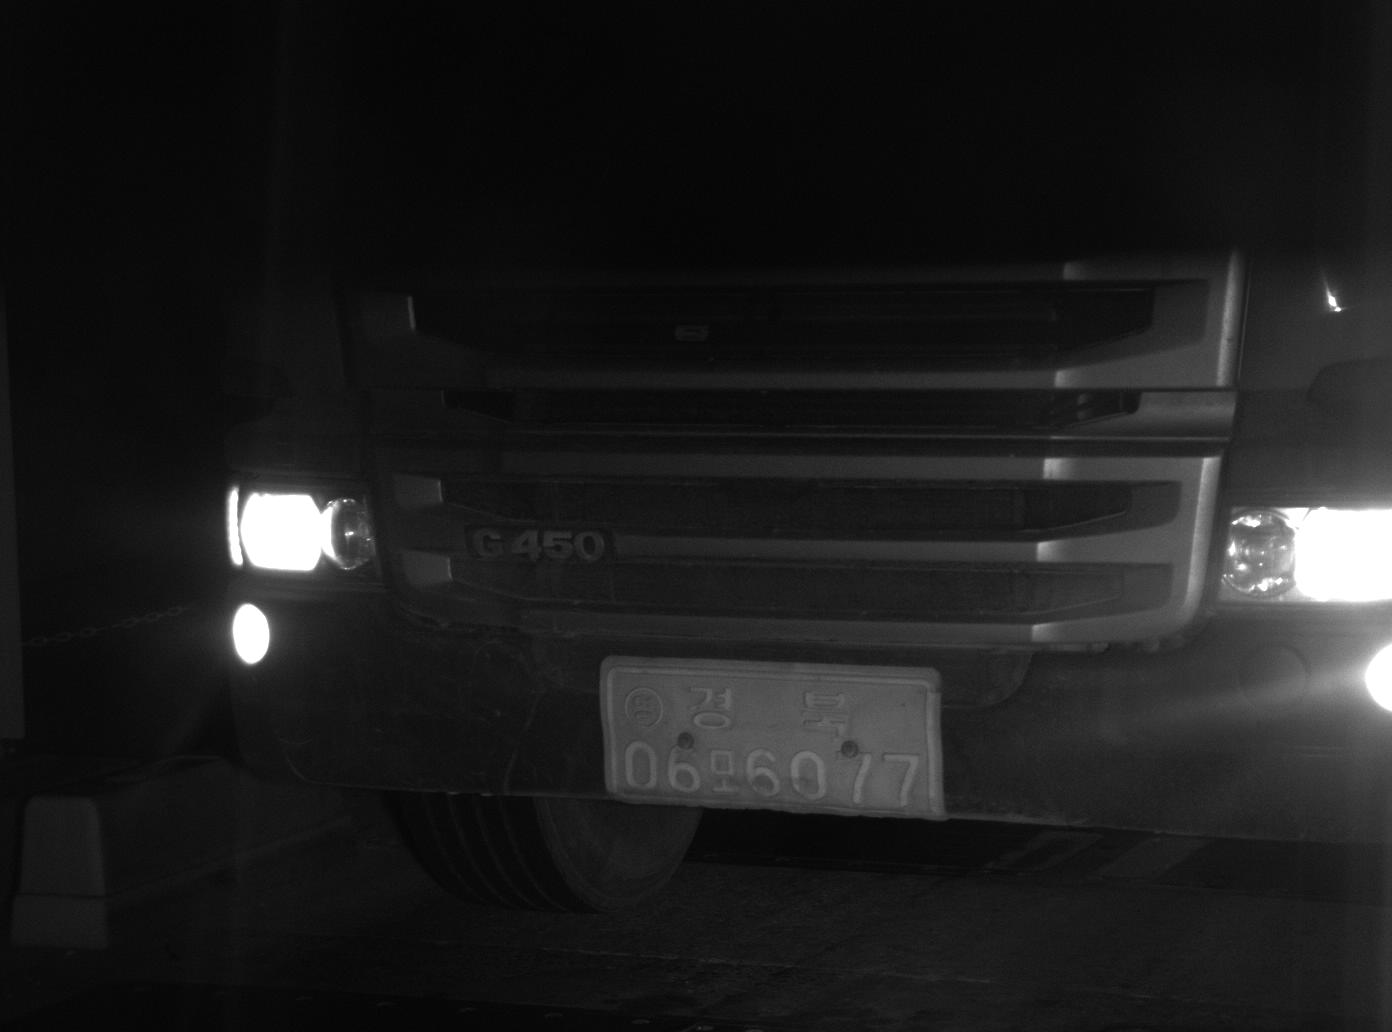car: (158, 1, 1390, 919)
plate: (597, 656, 945, 822)
